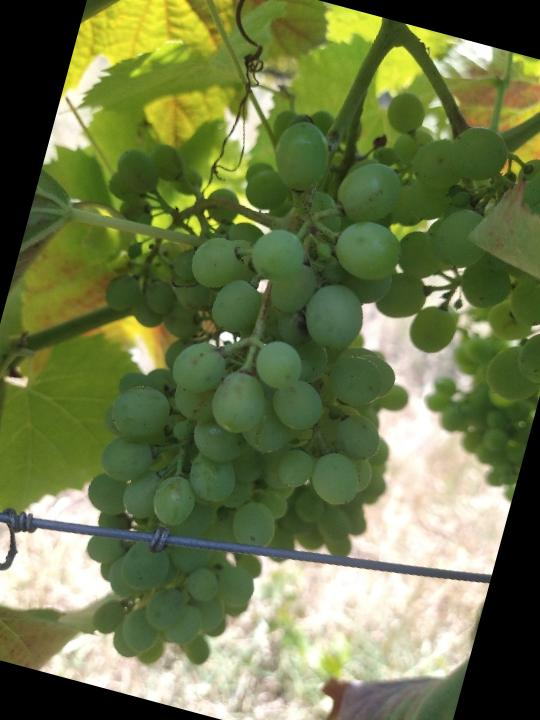grape: (0, 16, 540, 720)
